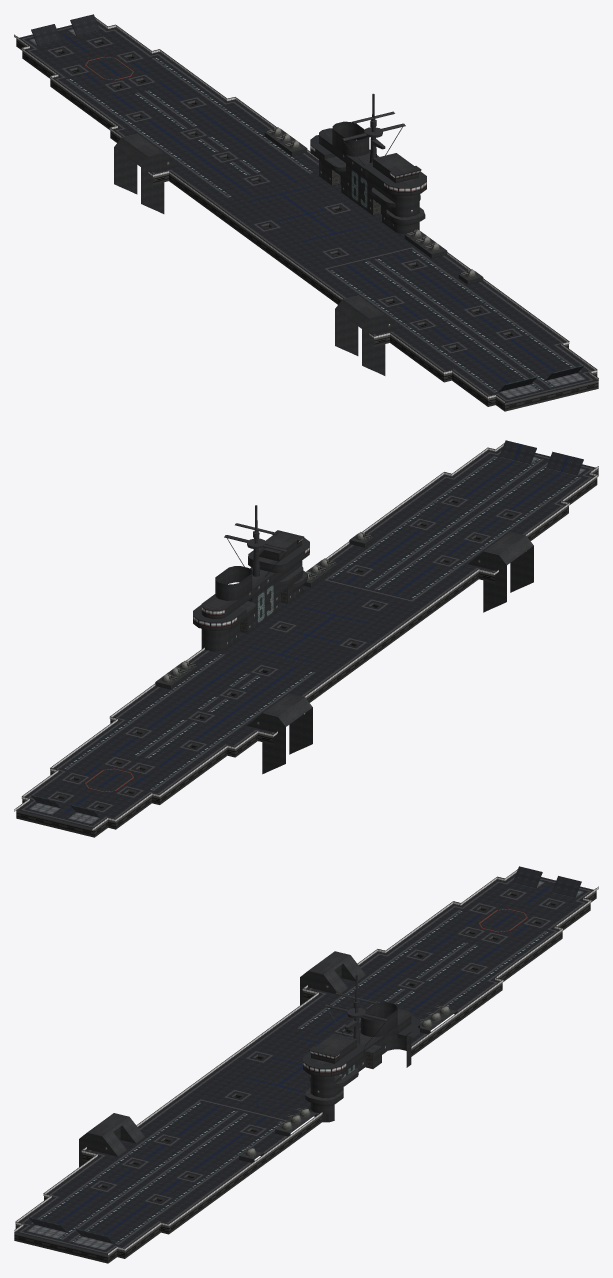
File: AircraftCarrier.FBX
3 views of the same model, one above another, from view 1: azimuth 30°, elevation 25°; view 2: azimuth 150°, elevation 25°; view 3: azimuth 330°, elevation 25° (orthographic).
Visible parts, largest first — view 1: Base, B_Base_Alpa01, B_Base_Alpa; view 2: Base, B_Base_Alpa01, B_Base_Alpa; view 3: Base, B_Base_Alpa01, B_Base_Alpa.
Boxes of the visible parts, box(x1,y1,x2,y2) form: Base: box(16, 14, 598, 411); B_Base_Alpa01: box(14, 17, 598, 403); B_Base_Alpa: box(17, 17, 598, 403); Base: box(16, 440, 598, 837); B_Base_Alpa01: box(14, 443, 598, 830); B_Base_Alpa: box(16, 443, 596, 826); Base: box(14, 866, 596, 1263); B_Base_Alpa01: box(14, 869, 598, 1255); B_Base_Alpa: box(14, 869, 595, 1255).
Size of the model in its own units: 112 by 94.84 by 553.
